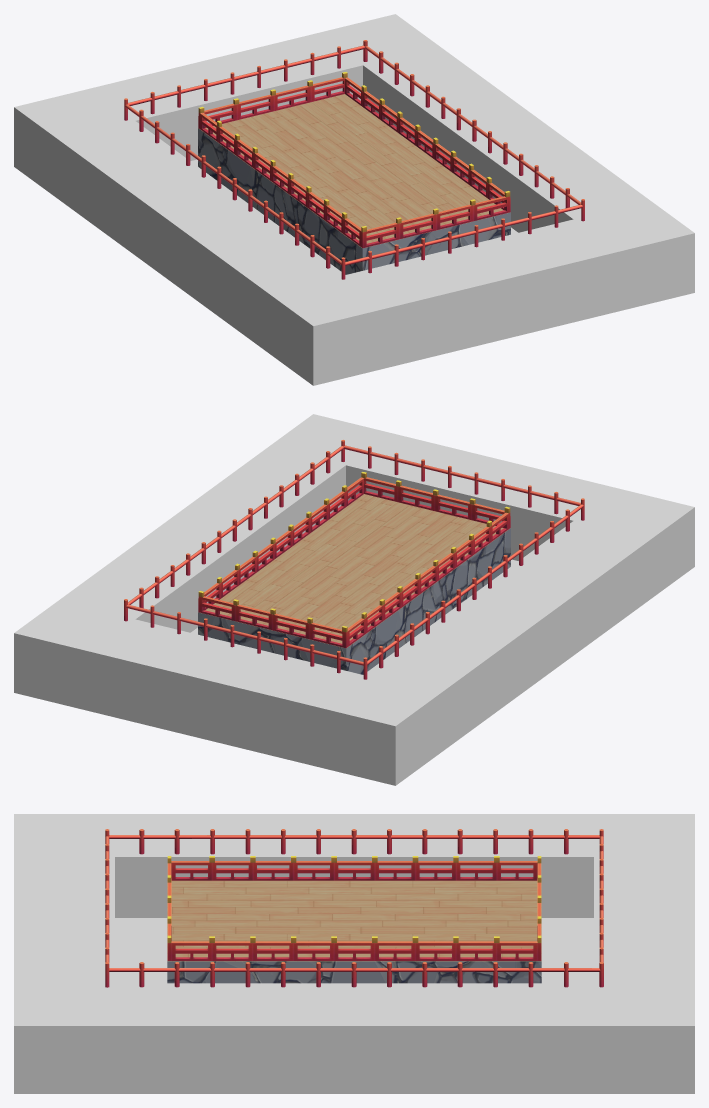
Rendered from Duel_Stage 25.fbx.
3 views of the same model, one above another, from view 1: azimuth 30°, elevation 25°; view 2: azimuth 150°, elevation 25°; view 3: azimuth 270°, elevation 25° (orthographic). The views are drawn at different scales.
Parts seen in each view (by area): view 1: Platform_Cube__1_.001, Platform_Cube__1_, Cube.051, Cube.049; view 2: Platform_Cube__1_.001, Platform_Cube__1_, Cube.051, Cube.049; view 3: Platform_Cube__1_.001, Platform_Cube__1_, Cube.051, Cube.049.
Boxes of the visible parts, left/top/right/bottom form: Platform_Cube__1_.001: left=14, top=14, right=694, bottom=385; Platform_Cube__1_: left=198, top=94, right=510, bottom=274; Cube.051: left=198, top=72, right=510, bottom=248; Cube.049: left=124, top=40, right=584, bottom=279; Platform_Cube__1_.001: left=14, top=414, right=694, bottom=785; Platform_Cube__1_: left=198, top=494, right=510, bottom=674; Cube.051: left=198, top=472, right=510, bottom=648; Cube.049: left=124, top=439, right=584, bottom=679; Platform_Cube__1_.001: left=14, top=814, right=694, bottom=1093; Platform_Cube__1_: left=167, top=879, right=541, bottom=983; Cube.051: left=167, top=856, right=541, bottom=960; Cube.049: left=105, top=829, right=603, bottom=987.
Size of the model in its own units: 6690 by 1346 by 9090.
